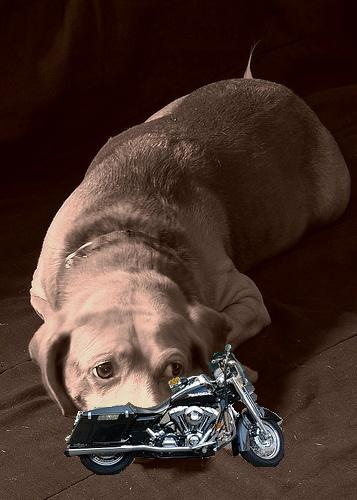tampered: (64, 345, 284, 475)
